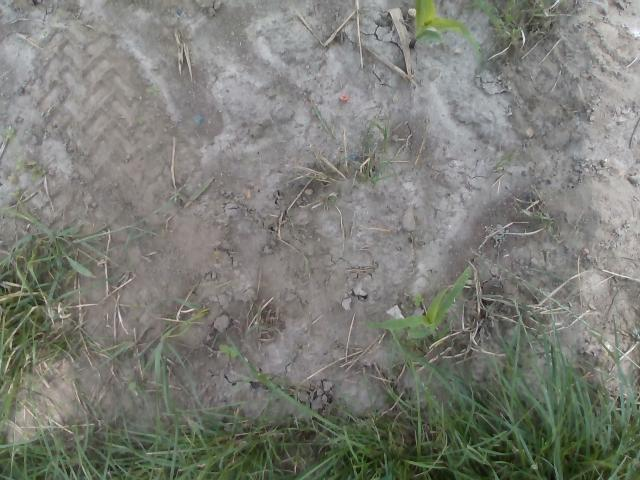Maize: (358, 266, 474, 344), (410, 0, 485, 64)
Weeds: (16, 155, 46, 178), (495, 152, 512, 173), (218, 342, 239, 359), (126, 375, 140, 394), (144, 82, 160, 96), (0, 124, 14, 138), (413, 292, 422, 306)
